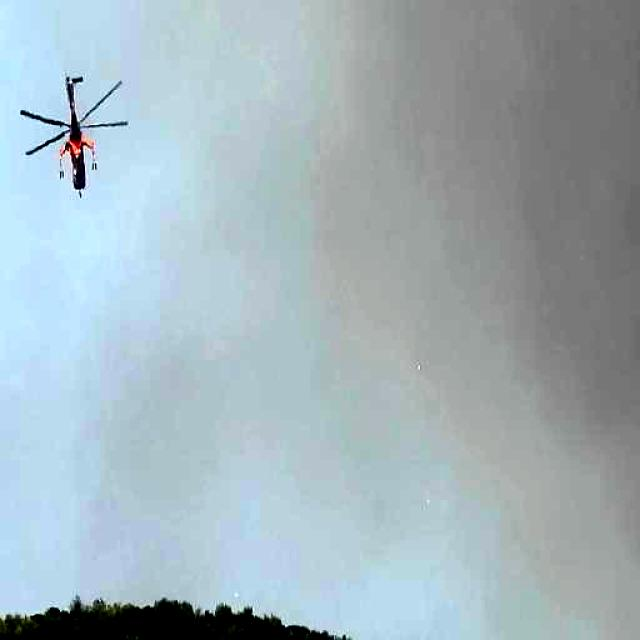drone: (21, 59, 132, 199)
